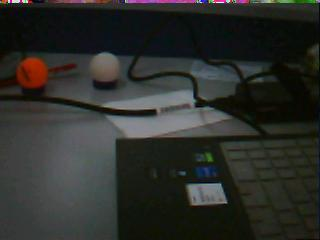oball: (18, 57, 48, 87)
